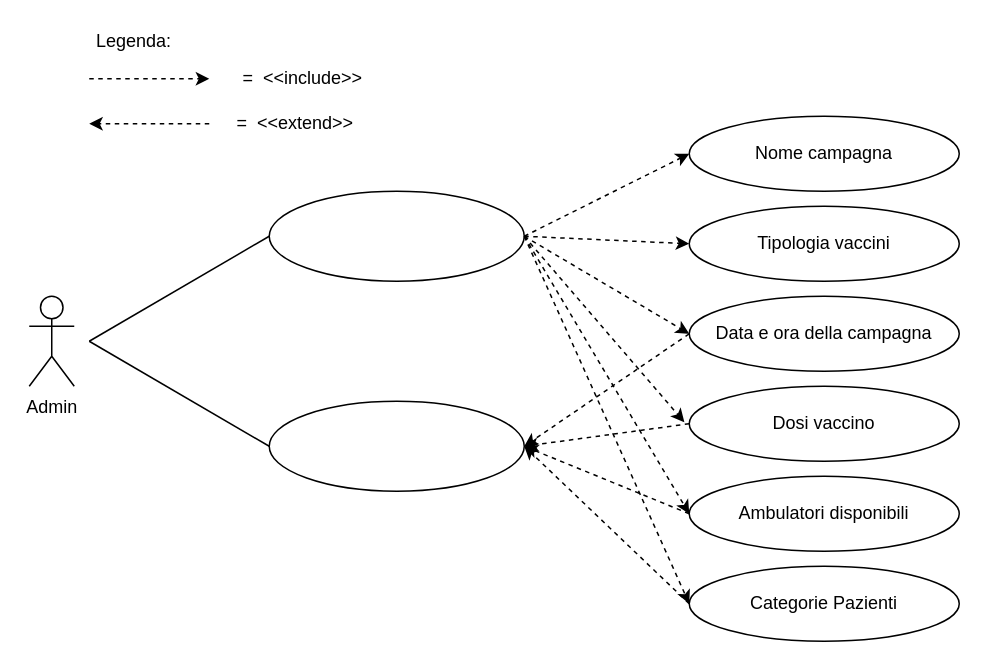
This 986x668 diagram has some shape labels left out. Here are the shapes that lost their labels. From the top down, the box of each, then its label:
(268, 190, 524, 281): Crea nuova campagna
(268, 400, 524, 491): Modifica campagna
